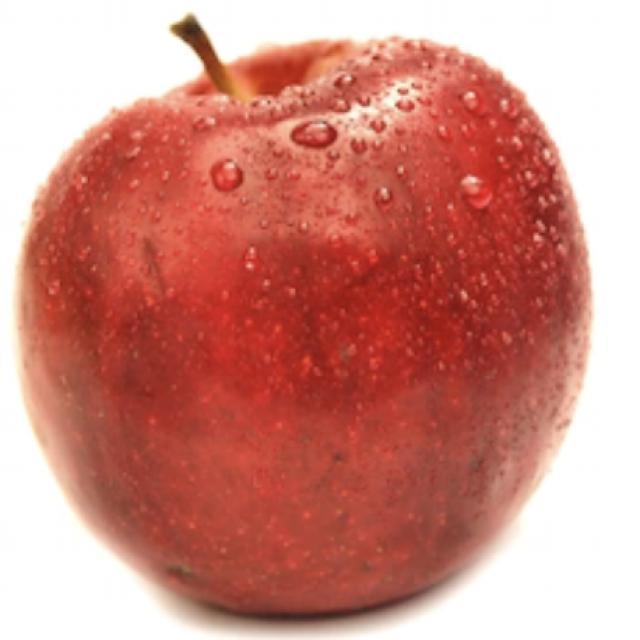Fresh Apple: (45, 45, 565, 640)
